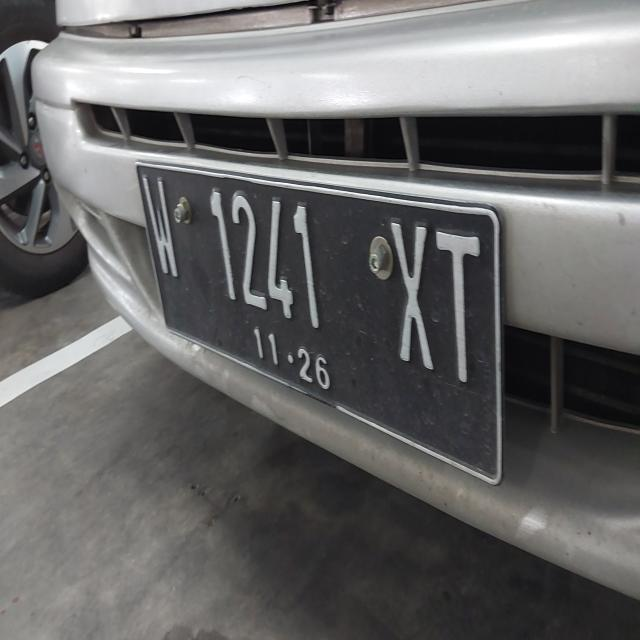1: (290, 186, 334, 344), (202, 168, 242, 318)
2: (224, 161, 274, 327)
4: (258, 169, 303, 336)
T: (428, 202, 496, 408)
W: (130, 160, 193, 312)
X: (377, 191, 445, 394)
